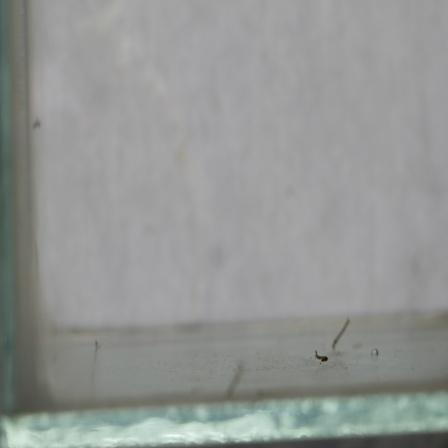Jentik-Nyamuk: (311, 346, 332, 367)
